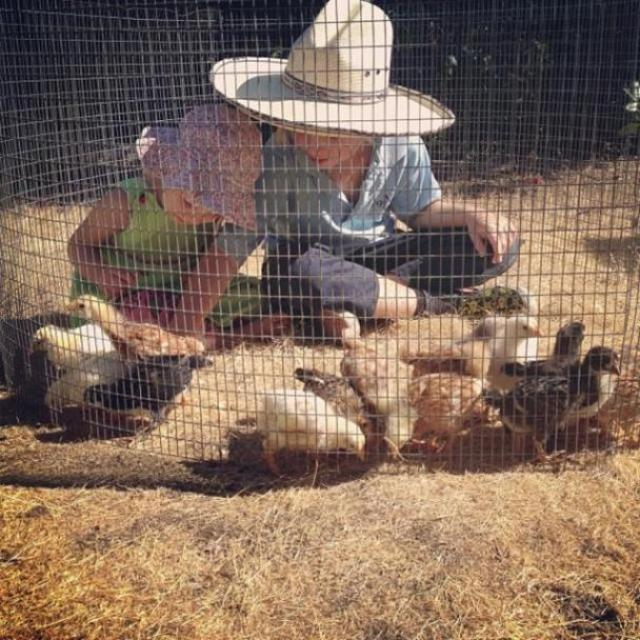Chicken: (256, 386, 367, 484)
